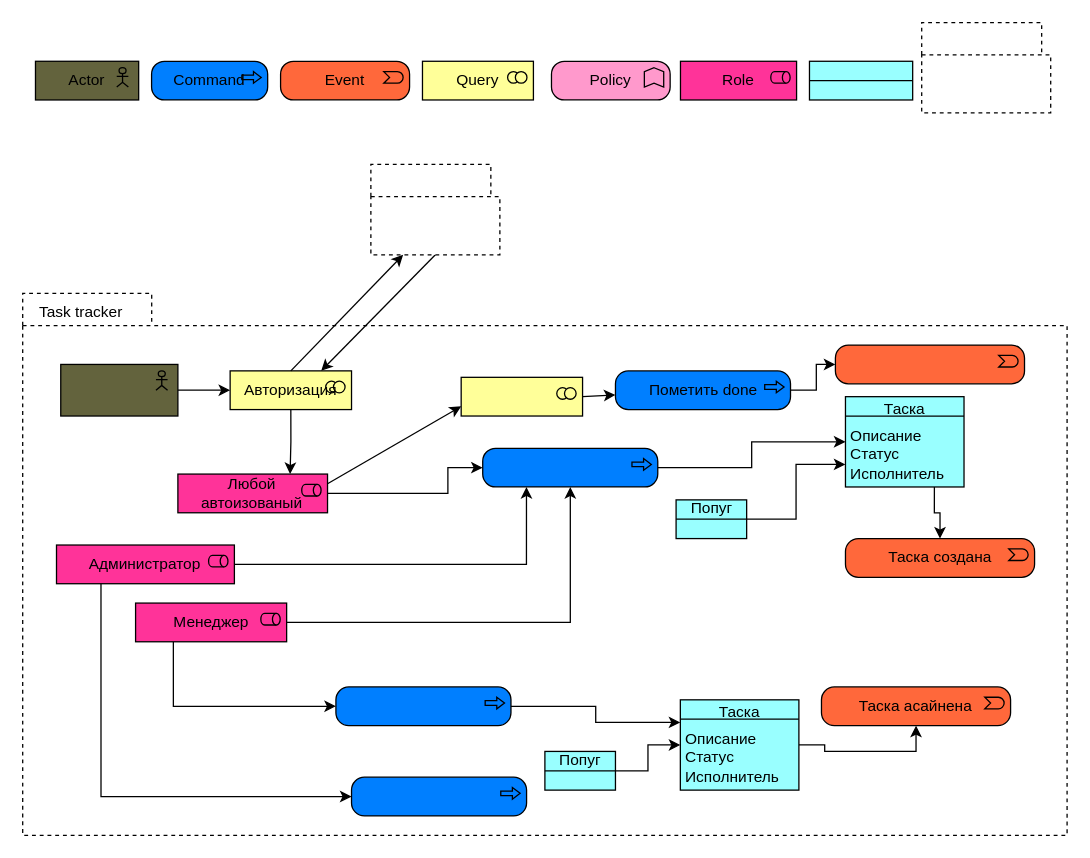
Some shapes in this 1090 by 858 pixel diagram are drawn without their labels. Each missing label, with the centre of its shape:
"Data" belongs at (860,80).
"Domain" belongs at (985,67).
"Внешняя Auth" belongs at (435,209).
"Заасайнить задачи" belongs at (438,796).
"Заасайнить таску" belongs at (423,706).
"Любой пользователь" belongs at (118,389).
"Получить список задач" belongs at (521,396).
"Создать таску" belongs at (569,467).
"Таска выполнена" belongs at (929,364).
